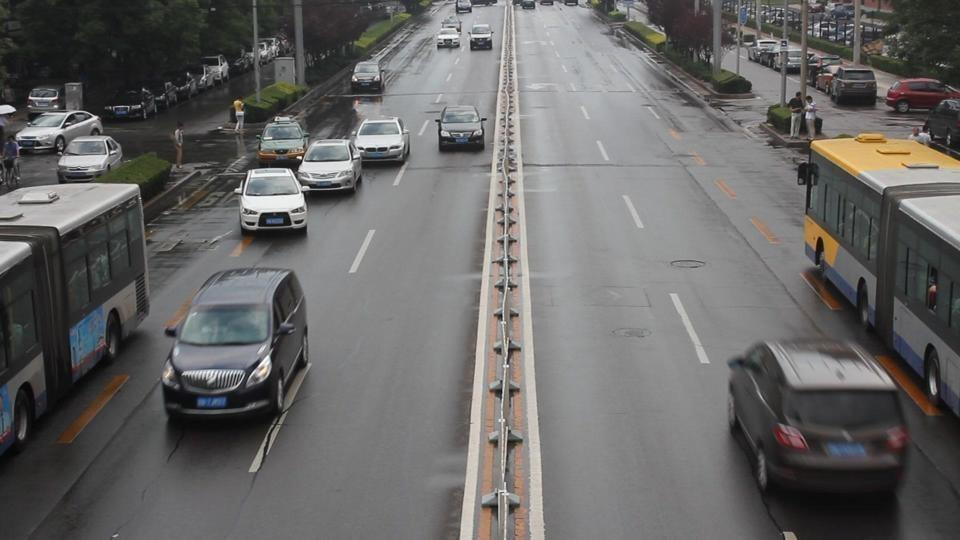car: (725, 335, 913, 500), (160, 267, 312, 425), (299, 128, 412, 179), (826, 69, 957, 108), (238, 167, 309, 231), (16, 110, 103, 154), (295, 139, 364, 191), (56, 136, 123, 182), (350, 117, 412, 163), (256, 118, 309, 169), (885, 78, 960, 113), (437, 104, 486, 152), (922, 98, 960, 156), (828, 65, 877, 107), (104, 87, 159, 121), (350, 60, 385, 93), (814, 59, 844, 90), (749, 39, 782, 65), (435, 24, 462, 50), (469, 23, 493, 51), (781, 51, 804, 73), (456, 0, 473, 14)
